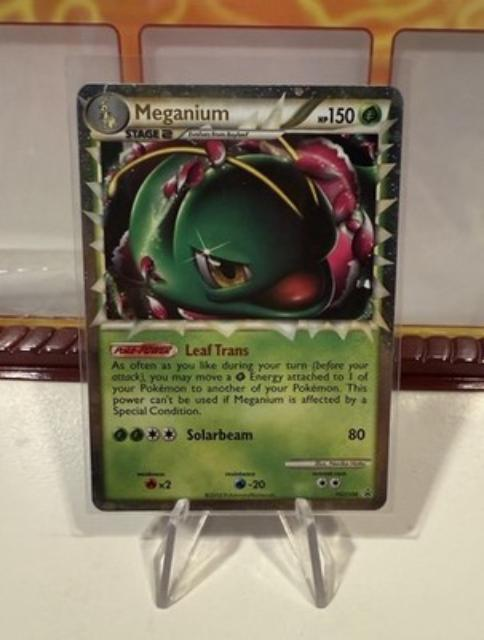Card: (72, 79, 408, 517)
Name: (130, 97, 235, 126)
